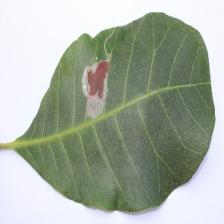leaf miner: (0, 11, 216, 213), (80, 59, 110, 119)
